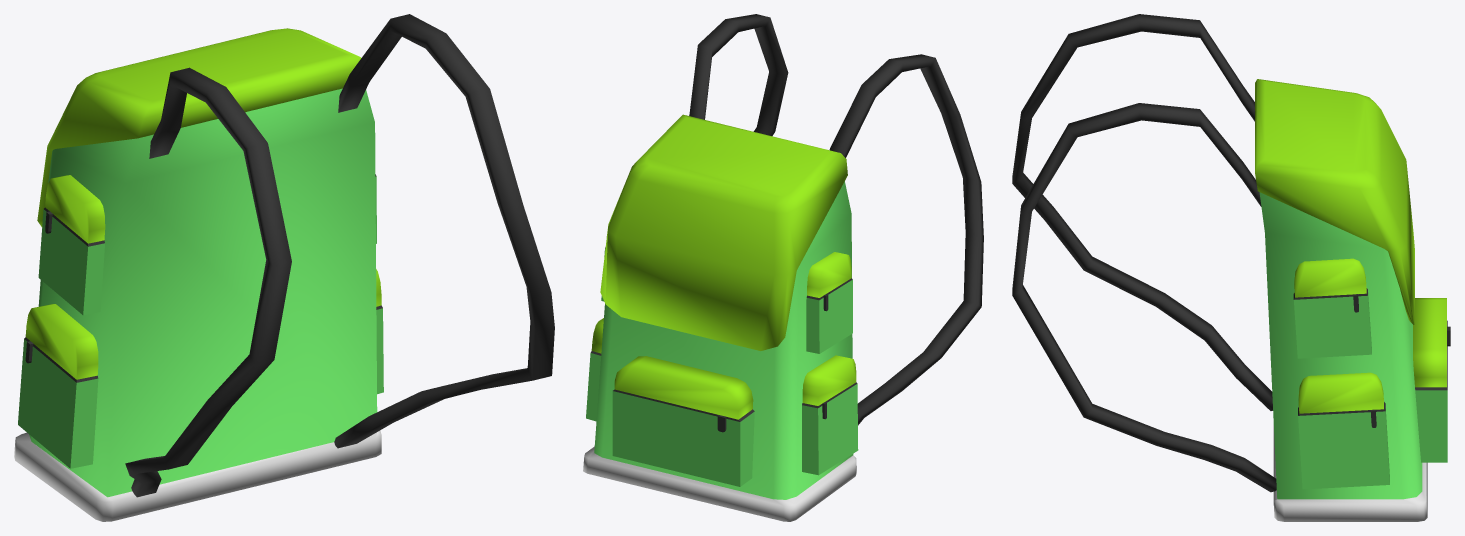
Rendered from backpack.fbx.
3 views of the same model, side by side, from view 1: azimuth 30°, elevation 25°; view 2: azimuth 150°, elevation 25°; view 3: azimuth 270°, elevation 25° (orthographic). The views are drawn at different scales.
Visible parts, largest first — view 1: Backpack; view 2: Backpack; view 3: Backpack.
Part boxes in pixels (bbox=[...]): Backpack: bbox=[14, 14, 554, 521]; Backpack: bbox=[583, 14, 983, 521]; Backpack: bbox=[1012, 14, 1450, 521].
Size of the model in its own units: 30.63 by 37.13 by 36.63.
